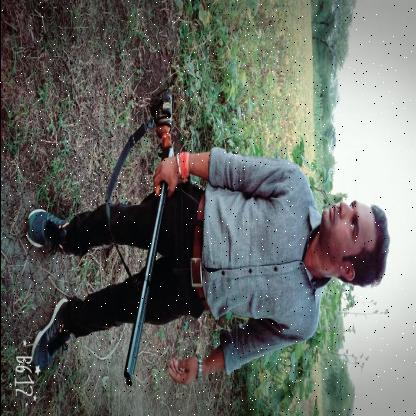rifle: (122, 87, 176, 390)
